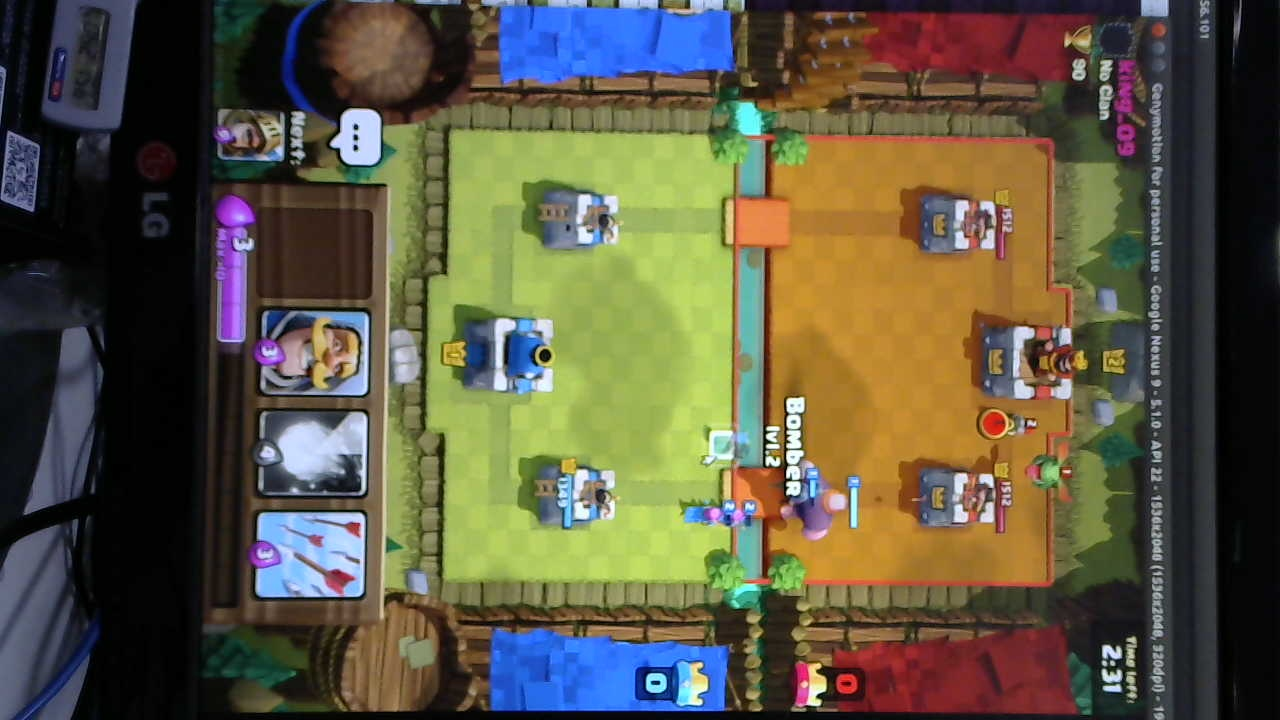archers: (670, 496, 761, 535)
arena: (539, 463, 620, 529), (543, 190, 623, 252)
bomb: (1002, 409, 1040, 440)
dragon: (1029, 441, 1076, 505)
earena: (921, 464, 998, 530), (920, 196, 998, 255)
eking: (973, 322, 1078, 402)
giant: (797, 463, 849, 541)
king: (458, 312, 560, 397)
musketeer: (774, 473, 827, 509)
